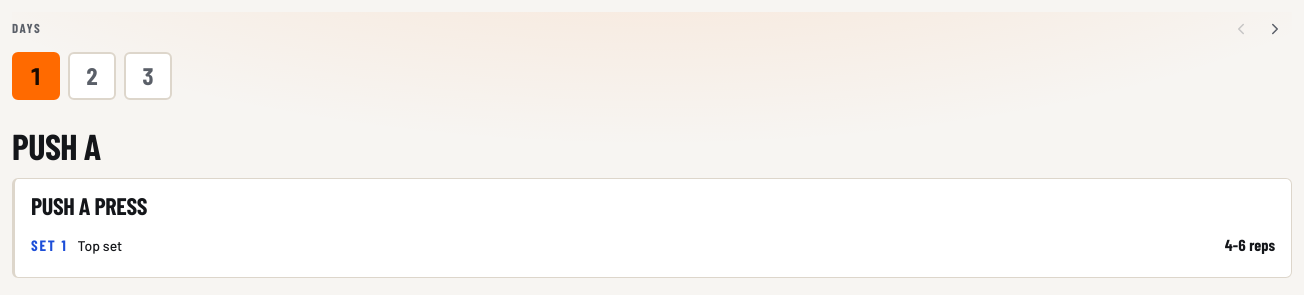
RoutineDays › offers the days label and chevrons to move between days
This screenshot has width=1304, height=295.
Expected: the element named "Days" is shown, 12,52 -> 172,100
Expected: the button named "Previous day" is disabled, 1224,12 -> 1258,46
Click the button named "Next day": [1275, 29] box 1258,12 -> 1292,46
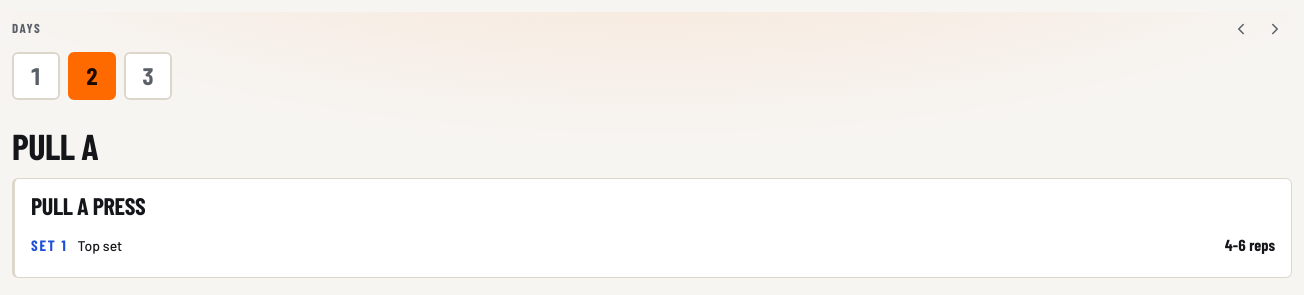
Expected: the button named "Previous day" is enabled, 1224,12 -> 1258,46
Now the panel "Pull A" is shown, box 12,130 -> 1292,278
